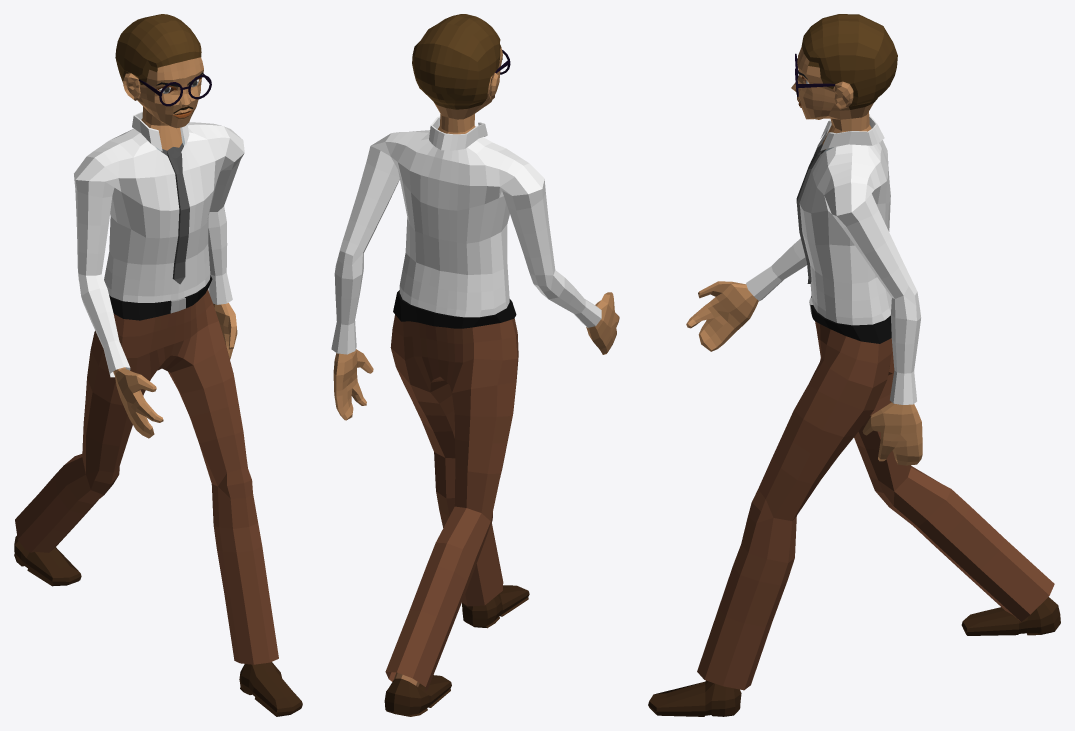
The model's file is TeacherMale_A_Walk.fbx.
3 renders of one model, left to right at view 1: azimuth 30°, elevation 25°; view 2: azimuth 150°, elevation 25°; view 3: azimuth 270°, elevation 25°, orthographic. The views are drawn at different scales.
Parts seen in each view (by area): view 1: TeacherMale_A_Walk; view 2: TeacherMale_A_Walk; view 3: TeacherMale_A_Walk.
Boxes of the visible parts, x1,y1,x2,y2 form: TeacherMale_A_Walk: [14, 14, 302, 716]; TeacherMale_A_Walk: [331, 14, 619, 716]; TeacherMale_A_Walk: [648, 14, 1060, 716].
Size of the model in its own units: 0.2883 by 0.9178 by 0.5099.
